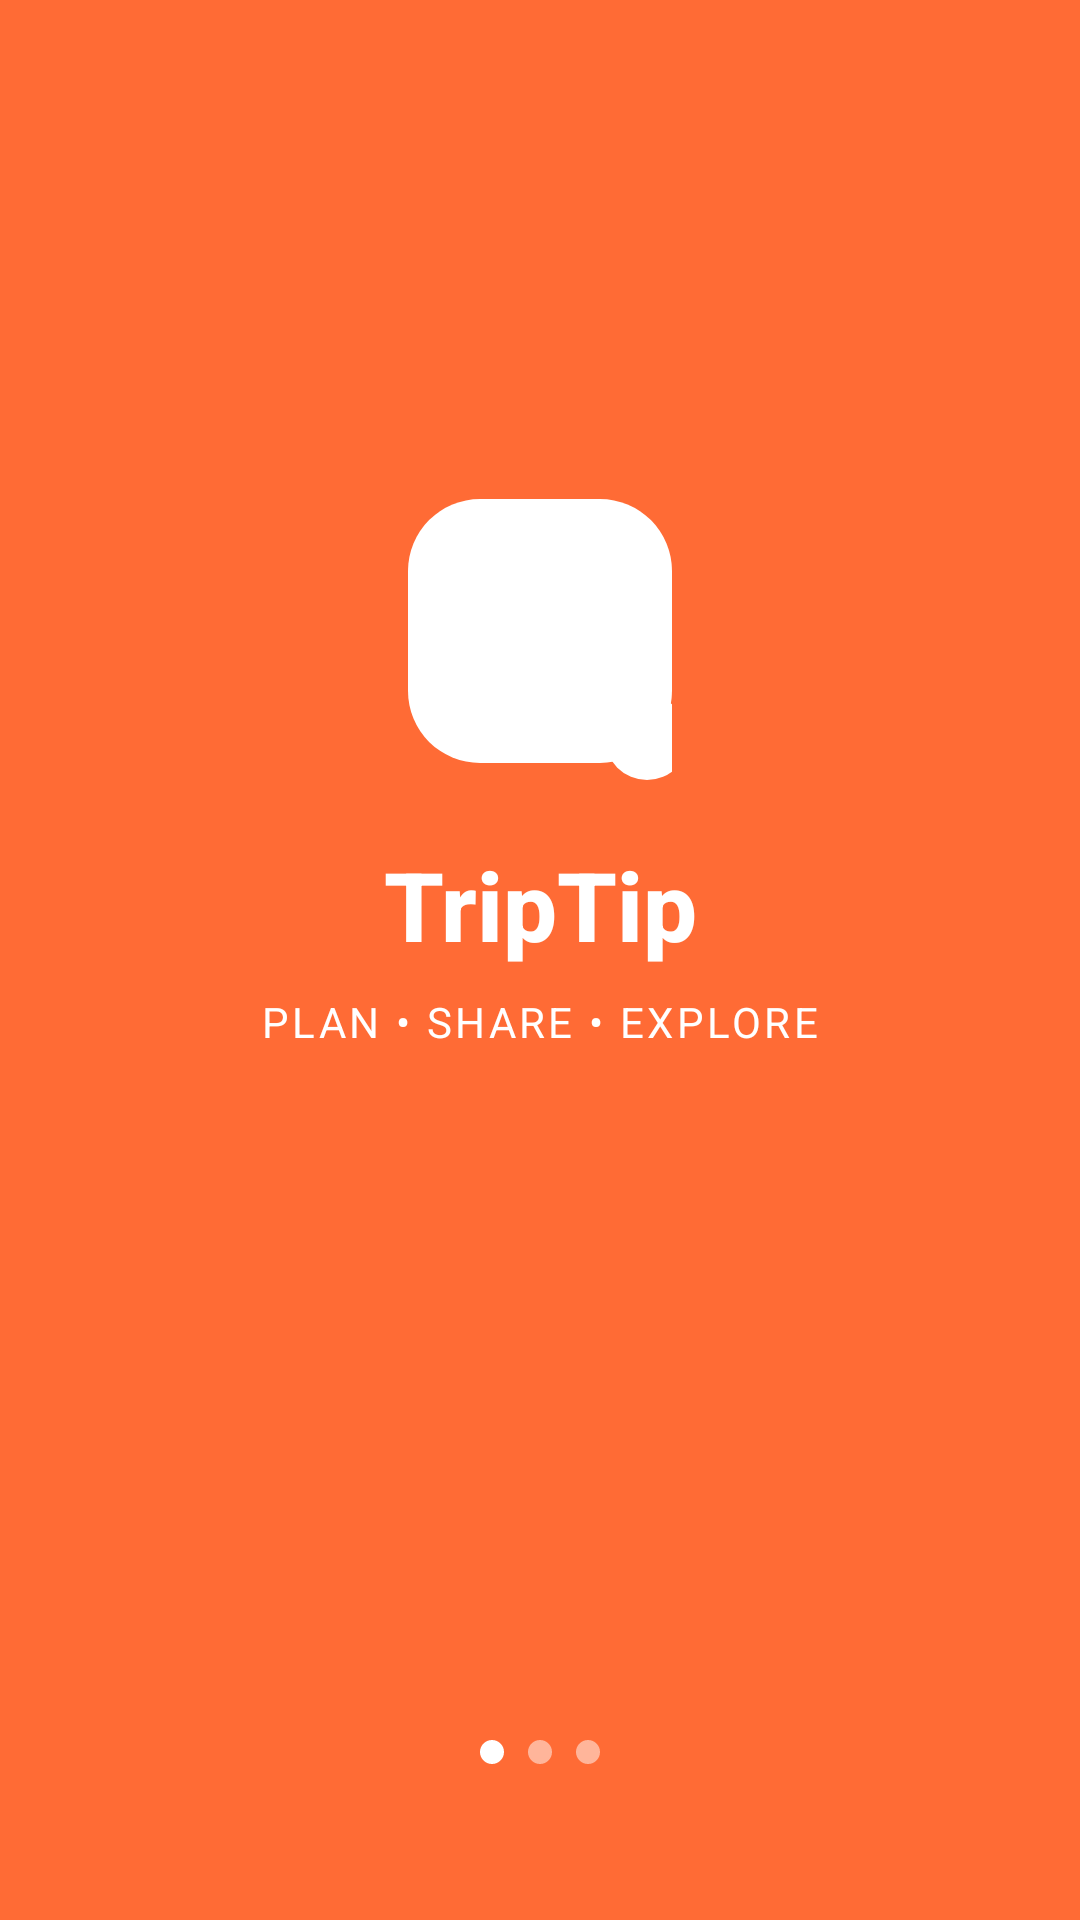

Icon click points for this 1080w x 1920h phone screenshot, format [x,y]:
dot: [492,1752], [540,1752], [588,1752]
